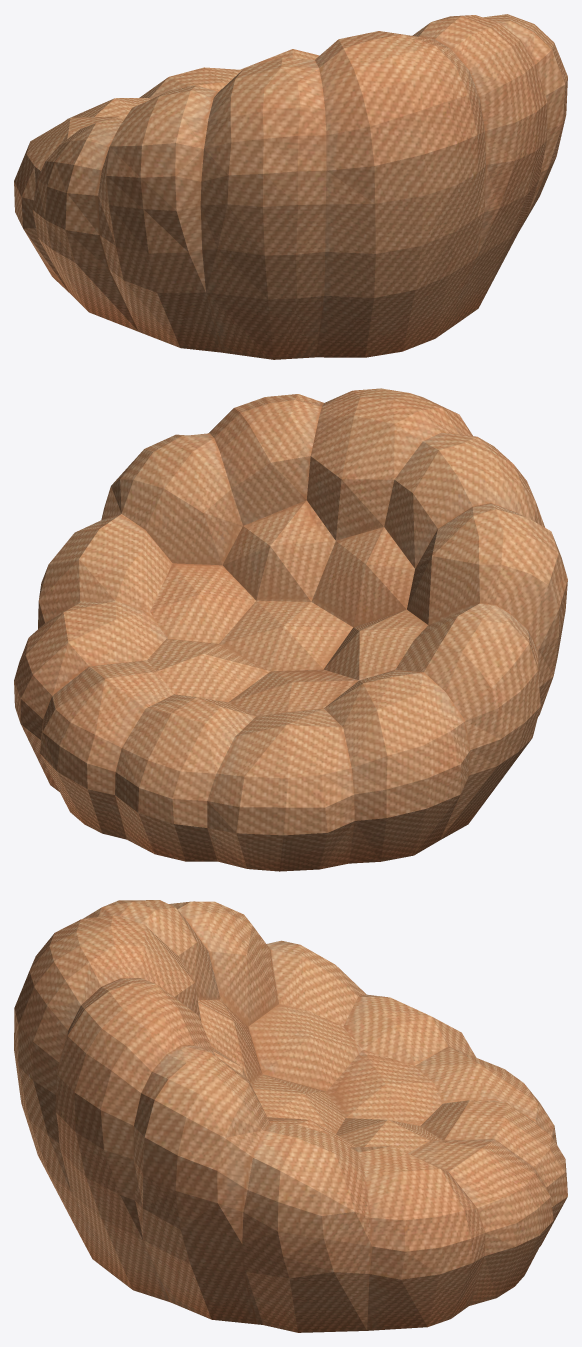
Rendered from P_LazySofa_001_S1_M01.obj.
3 renders of one model, top to bottom at view 1: azimuth 30°, elevation 25°; view 2: azimuth 150°, elevation 25°; view 3: azimuth 270°, elevation 25°, orthographic.
Size of the model in its own units: 1.52 by 0.925 by 1.51.
1 material, 1 textured.
